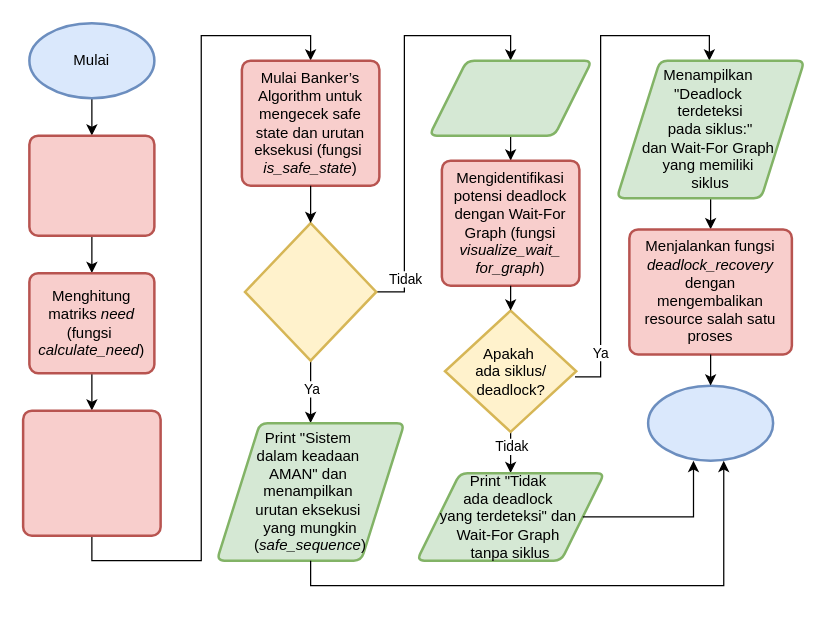
Image size: 826x618. Some labels were removed from this diagram. Here are the shapes that lost their labels. From the top down, the centre of each, then its label:
point (510, 97): Print "Sistem TIDAK AMAN!"
point (91, 185): Inisialisasi processes , allocation , maximum , available
point (310, 291): Semua proses bisa selesai?
point (710, 422): Selesai
point (91, 472): Menampilkan grafik allocation vs need ( fungsi visualize_allocation _and_need )
